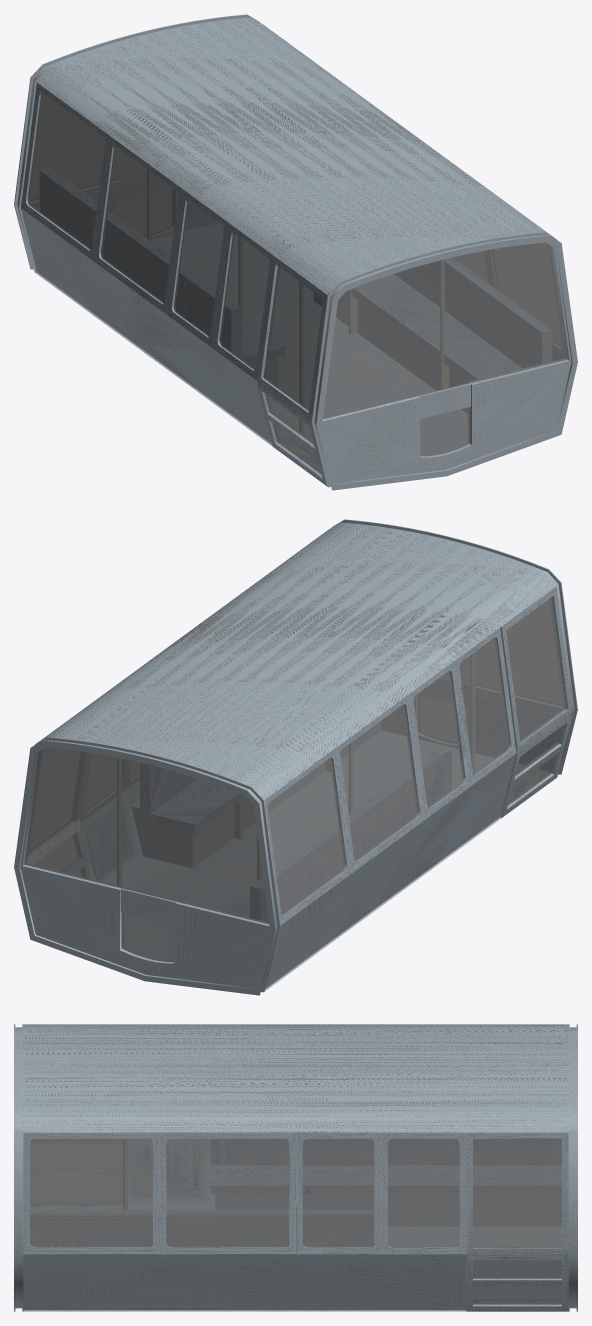
The model's file is Train.obj.
The picture shows the model from 3 angles, top to bottom: view 1: azimuth 30°, elevation 25°; view 2: azimuth 150°, elevation 25°; view 3: azimuth 270°, elevation 25°; orthographic projection. The views are drawn at different scales.
Visible parts, largest first — view 1: instance_0_ID210; view 2: instance_0_ID210; view 3: instance_0_ID210.
Boxes of the visible parts, x1=… form: instance_0_ID210: x1=14, y1=14, x2=577, y2=490; instance_0_ID210: x1=14, y1=519, x2=577, y2=995; instance_0_ID210: x1=14, y1=1024, x2=577, y2=1311.
Bounding box in the file's own units: 1.55 × 1.26 × 3.09.
